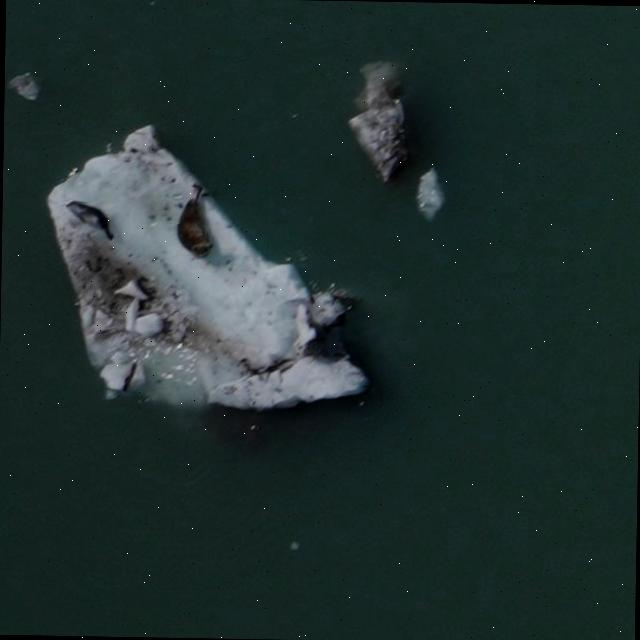seal: (167, 185, 215, 261), (66, 191, 118, 244)
